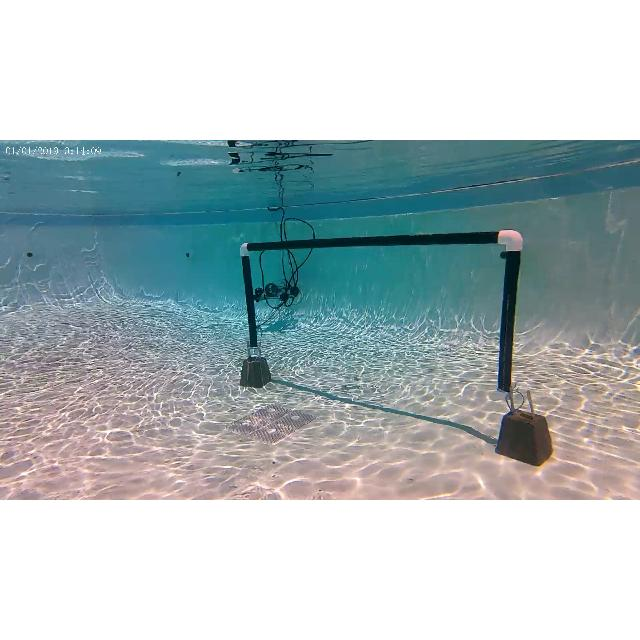prequal gate: (240, 230, 524, 400)
prequal gate leg l: (235, 242, 265, 351)
prequal gate leg r: (492, 230, 526, 390)
